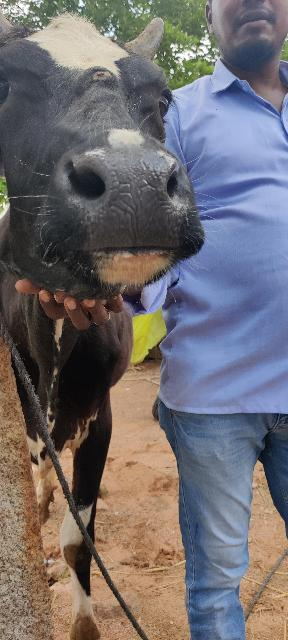Muzzle: (80, 154, 179, 246)
